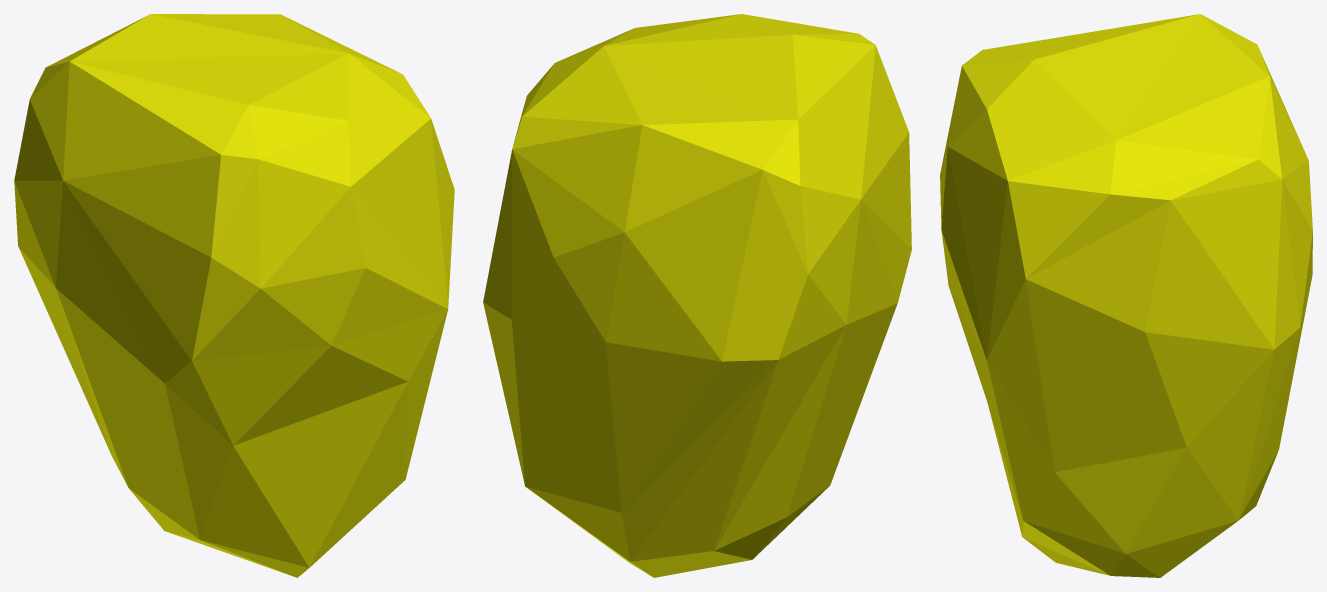
File: SM_Env_Bush_03.glb
3 views of the same model, side by side, from view 1: azimuth 30°, elevation 25°; view 2: azimuth 150°, elevation 25°; view 3: azimuth 270°, elevation 25° (orthographic). The views are drawn at different scales.
Visible parts, largest first — view 1: SM_Env_Bush_03; view 2: SM_Env_Bush_03; view 3: SM_Env_Bush_03.
Boxes of the visible parts, bbox=[...] form: SM_Env_Bush_03: bbox=[14, 14, 454, 577]; SM_Env_Bush_03: bbox=[483, 14, 911, 577]; SM_Env_Bush_03: bbox=[940, 14, 1312, 577].
Size of the model in its own units: 1.06 by 1.52 by 1.08.
Materials: 1 (1 with a texture image).
